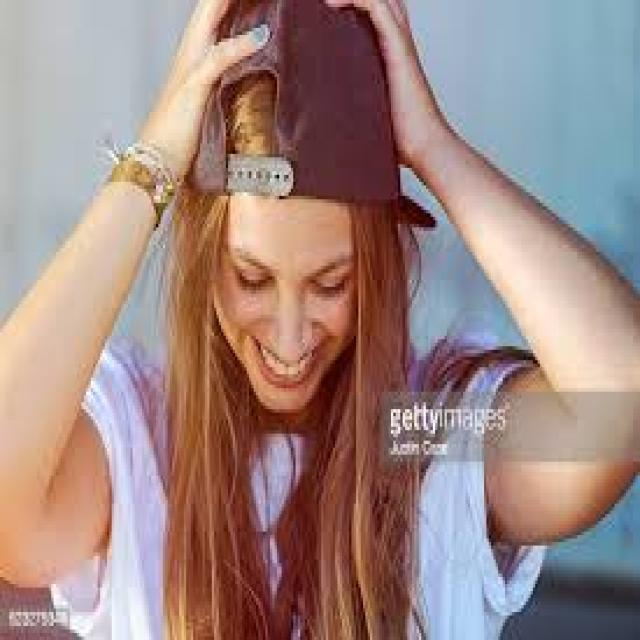cap: (196, 0, 428, 232)
